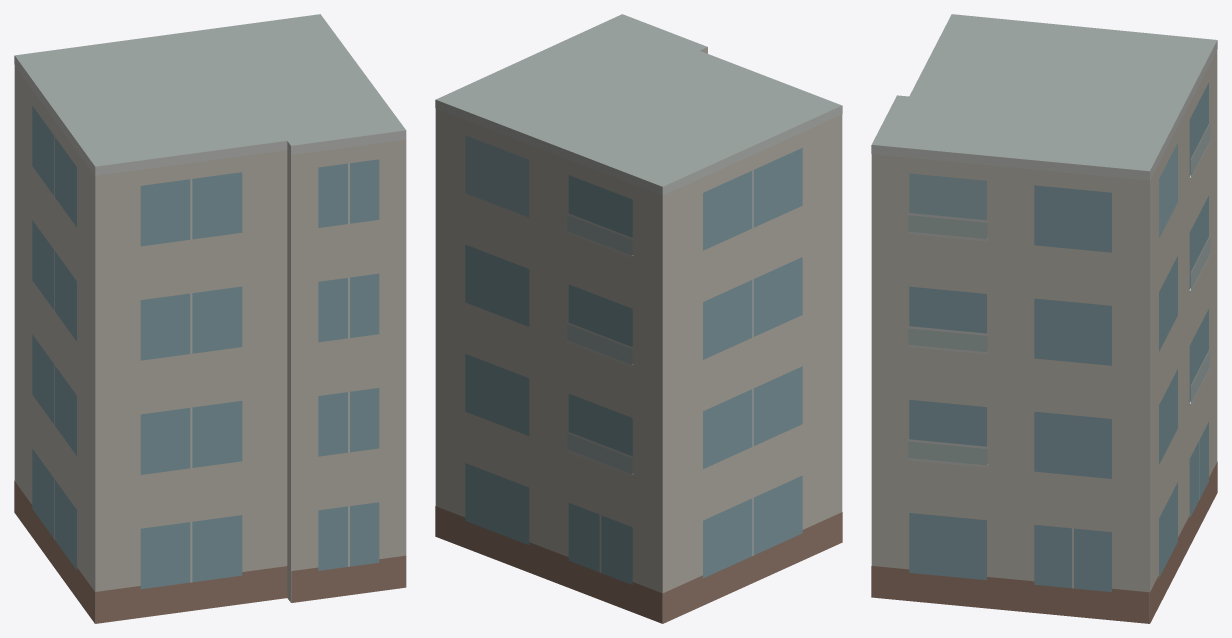
File: survey-upis-32678697.glb
3 views of the same model, side by side, from view 1: azimuth 30°, elevation 25°; view 2: azimuth 150°, elevation 25°; view 3: azimuth 270°, elevation 25° (orthographic). The views are drawn at different scales.
Parts seen in each view (by area): view 1: survey-upis-32678697.tmp; view 2: survey-upis-32678697.tmp; view 3: survey-upis-32678697.tmp.
Boxes of the visible parts, box(x1,y1,x2,y2) form: survey-upis-32678697.tmp: box(14, 14, 406, 623); survey-upis-32678697.tmp: box(435, 14, 842, 623); survey-upis-32678697.tmp: box(871, 14, 1217, 623).
Bounding box in the file's own units: 8.95 × 12 × 8.32.
